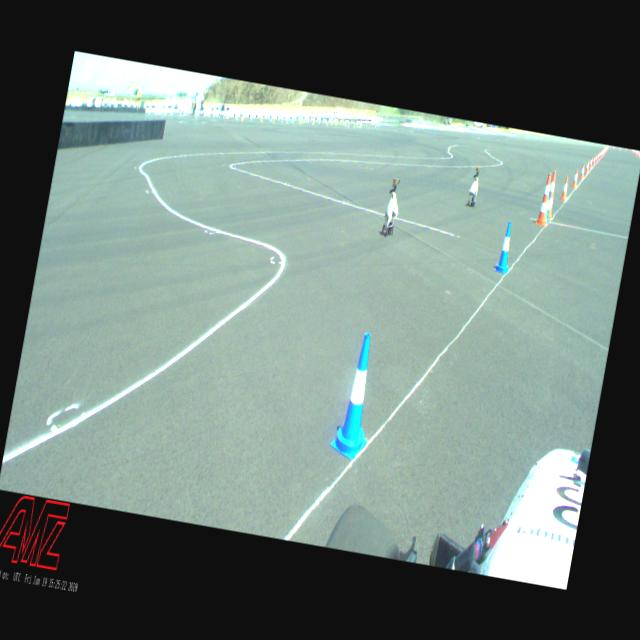blue_cone: (328, 329, 385, 462), (494, 220, 516, 273), (544, 190, 554, 222)
large_orange_cone: (534, 172, 556, 224), (544, 170, 560, 221)
orange_cone: (560, 177, 570, 200), (571, 168, 580, 188), (579, 164, 585, 180), (584, 160, 590, 172), (588, 157, 594, 168), (592, 155, 596, 164), (596, 152, 600, 160), (595, 154, 598, 162)
